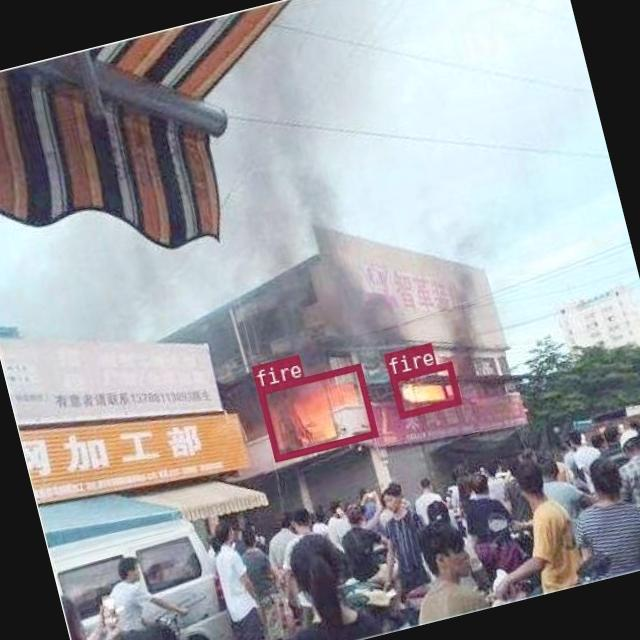fire: (256, 362, 376, 460), (388, 360, 460, 417)
